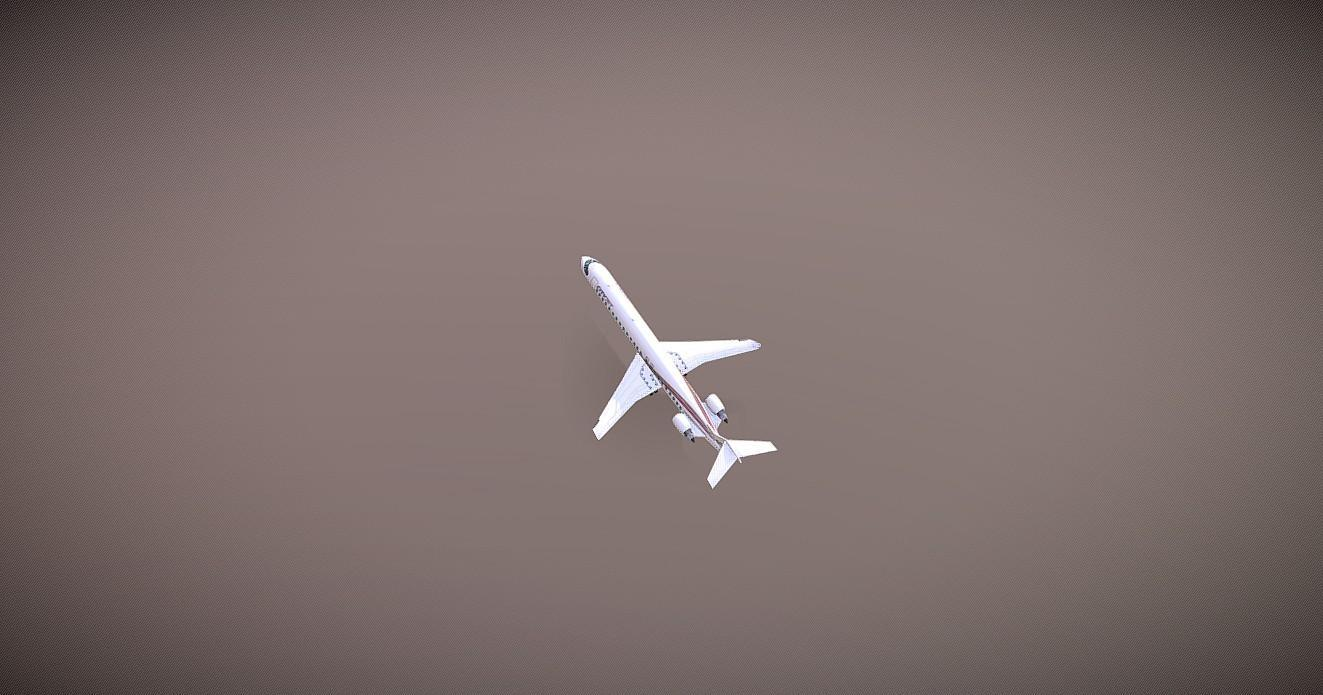Airplane: (579, 254, 778, 489)
